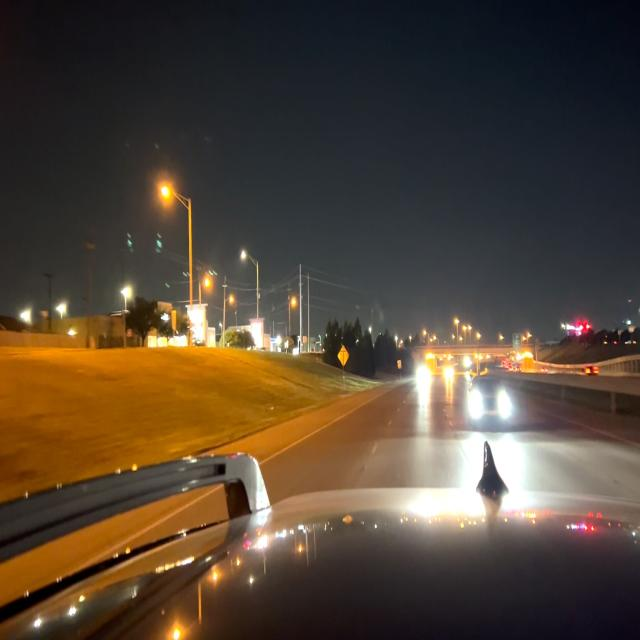back-of-sign: (338, 346, 350, 366)
